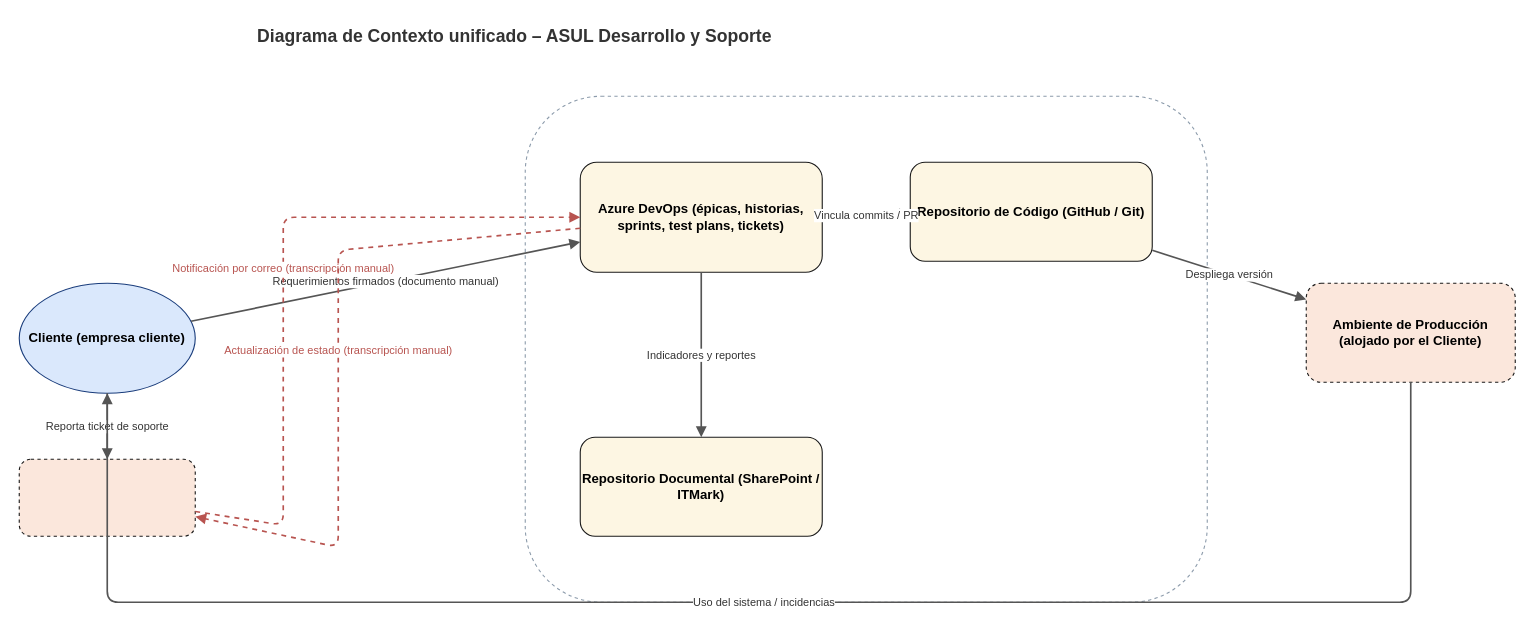
Some shapes in this 1535 by 630 pixel diagram are drawn without their labels. The box of each missing label's shape, as (x1, y1, x2, y2) in pixels:
ASUL Tecnologías de la Información SAS: (524, 95, 1207, 602)
Jira (sistema del Cliente): (18, 458, 195, 536)
